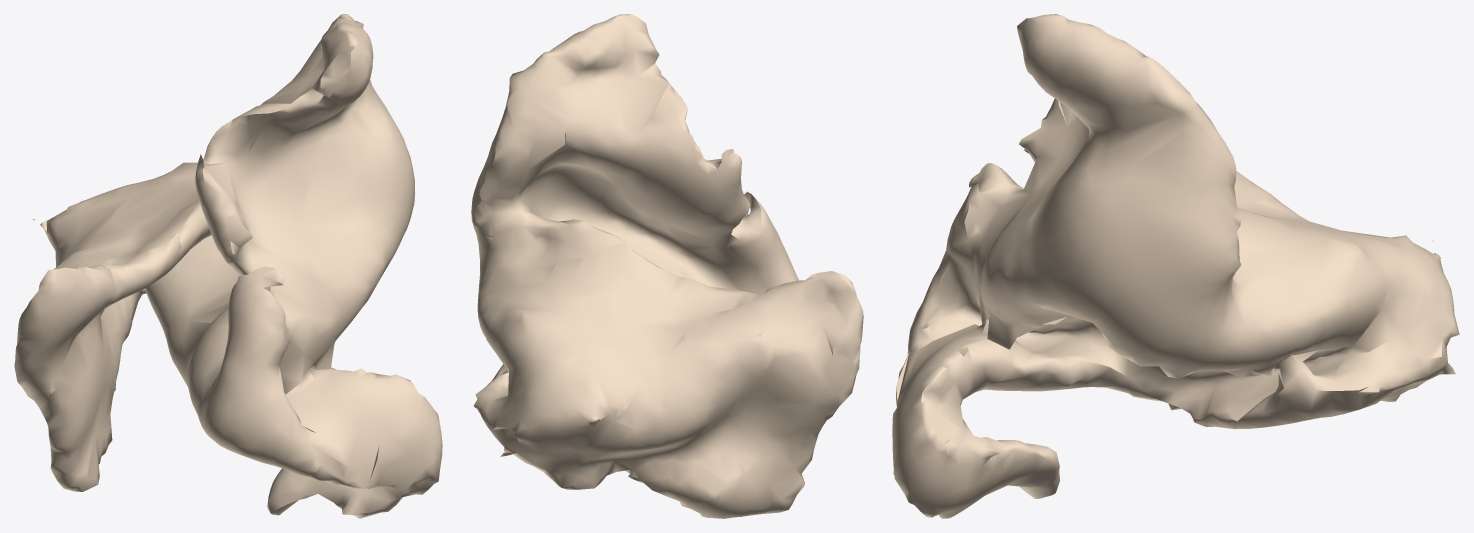
The model's file is spl-2018.glb.
3 views of the same model, side by side, from view 1: azimuth 30°, elevation 25°; view 2: azimuth 150°, elevation 25°; view 3: azimuth 270°, elevation 25° (orthographic). The views are drawn at different scales.
Parts seen in each view (by area): view 1: spl-2018; view 2: spl-2018; view 3: spl-2018.
Part boxes in pixels (bbox=[...]): spl-2018: bbox=[14, 14, 442, 518]; spl-2018: bbox=[471, 14, 863, 518]; spl-2018: bbox=[892, 14, 1459, 518].
Size of the model in its own units: 28.87 by 32.44 by 31.64.
